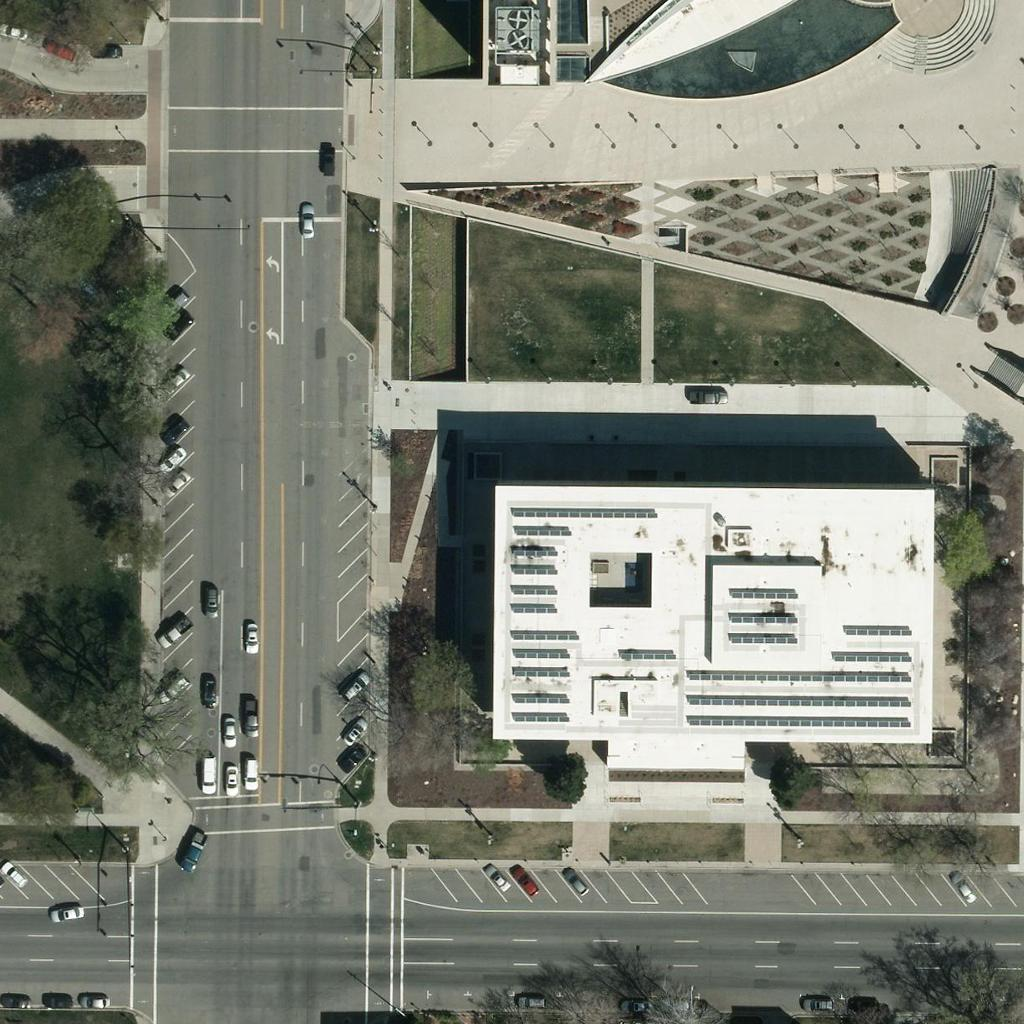car: (43, 33, 77, 67), (88, 33, 122, 67), (312, 146, 346, 180), (289, 204, 323, 238), (157, 285, 191, 319), (161, 308, 195, 342), (157, 365, 191, 399), (693, 380, 727, 414), (159, 412, 193, 446), (154, 442, 188, 476), (157, 466, 191, 500), (193, 582, 227, 616), (157, 616, 191, 650), (234, 620, 268, 654), (337, 670, 371, 704), (155, 674, 189, 708), (191, 674, 225, 708), (233, 704, 267, 738), (213, 713, 247, 747), (337, 716, 371, 750), (336, 740, 370, 774), (235, 755, 269, 789), (190, 760, 224, 794), (213, 762, 247, 796), (174, 837, 208, 871), (480, 863, 514, 897), (558, 866, 592, 900), (511, 867, 545, 901), (946, 869, 980, 903), (49, 896, 83, 930), (513, 984, 547, 1018), (41, 985, 75, 1019), (78, 986, 112, 1020), (800, 986, 834, 1020), (850, 986, 884, 1020), (622, 988, 656, 1022), (659, 988, 693, 1022), (0, 857, 31, 891), (0, 984, 31, 1018), (0, 13, 28, 47)
